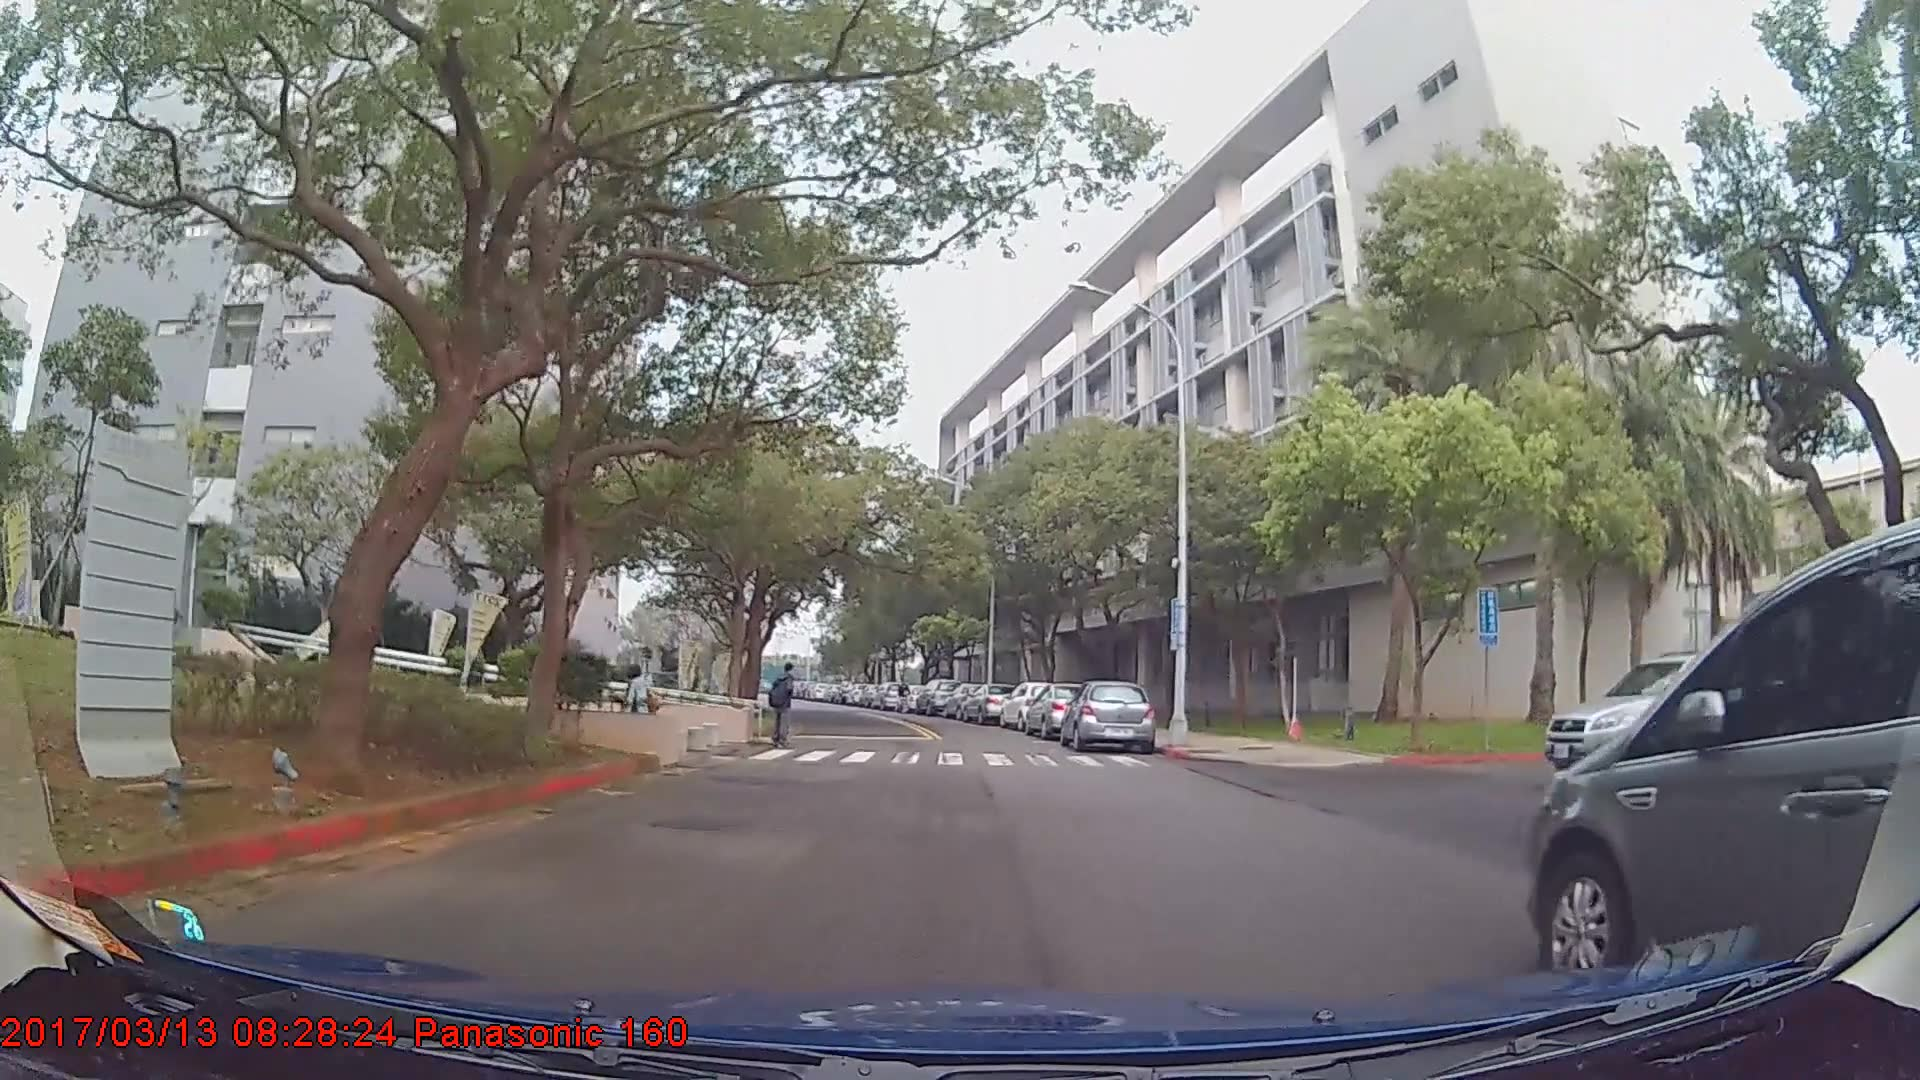pedestrian: (614, 667, 663, 756), (767, 662, 799, 753)
vehicle: (1532, 527, 1920, 995), (1544, 645, 1807, 781), (1059, 679, 1153, 755), (1020, 680, 1107, 738), (996, 678, 1069, 735), (961, 681, 1012, 721), (915, 679, 959, 716)
